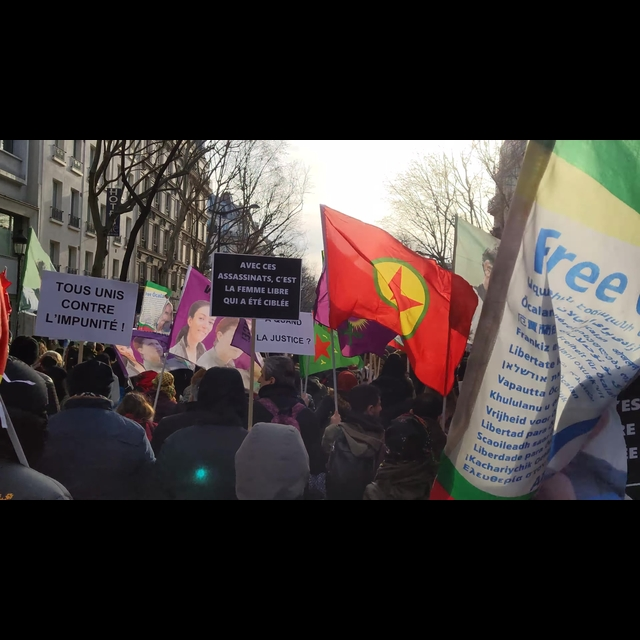PKK: (367, 256, 429, 342)
